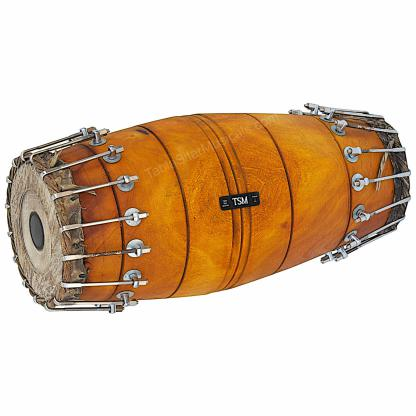Mridangam: (7, 112, 416, 303)
